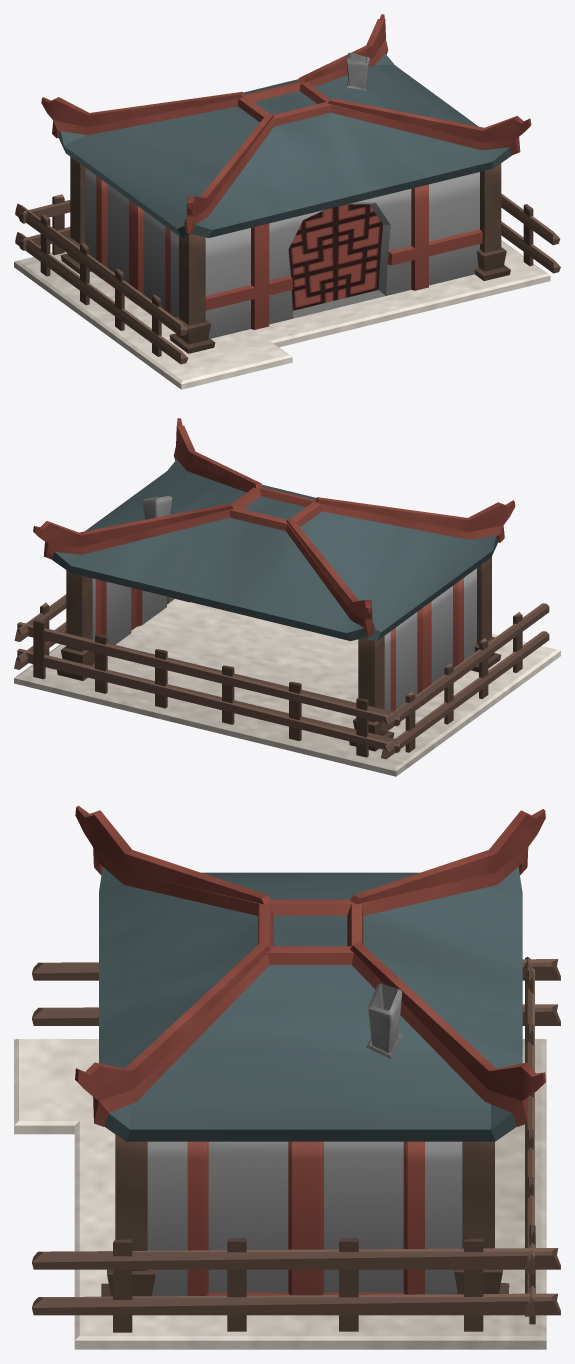
File: blacksmith_2lvl_color.fbx
3 renders of one model, top to bottom at view 1: azimuth 30°, elevation 25°; view 2: azimuth 150°, elevation 25°; view 3: azimuth 270°, elevation 25°, orthographic. The views are drawn at different scales.
Visible parts, largest first — view 1: blacksmith_2lvl_color; view 2: blacksmith_2lvl_color; view 3: blacksmith_2lvl_color.
Part boxes in pixels (x1=…): blacksmith_2lvl_color: x1=14, y1=14, x2=560, y2=389; blacksmith_2lvl_color: x1=14, y1=418, x2=560, y2=776; blacksmith_2lvl_color: x1=14, y1=805, x2=560, y2=1349.
Bounding box in the file's own units: 601 × 264 × 460.
